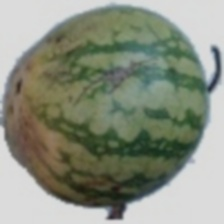watermelon: (26, 24, 187, 222)
